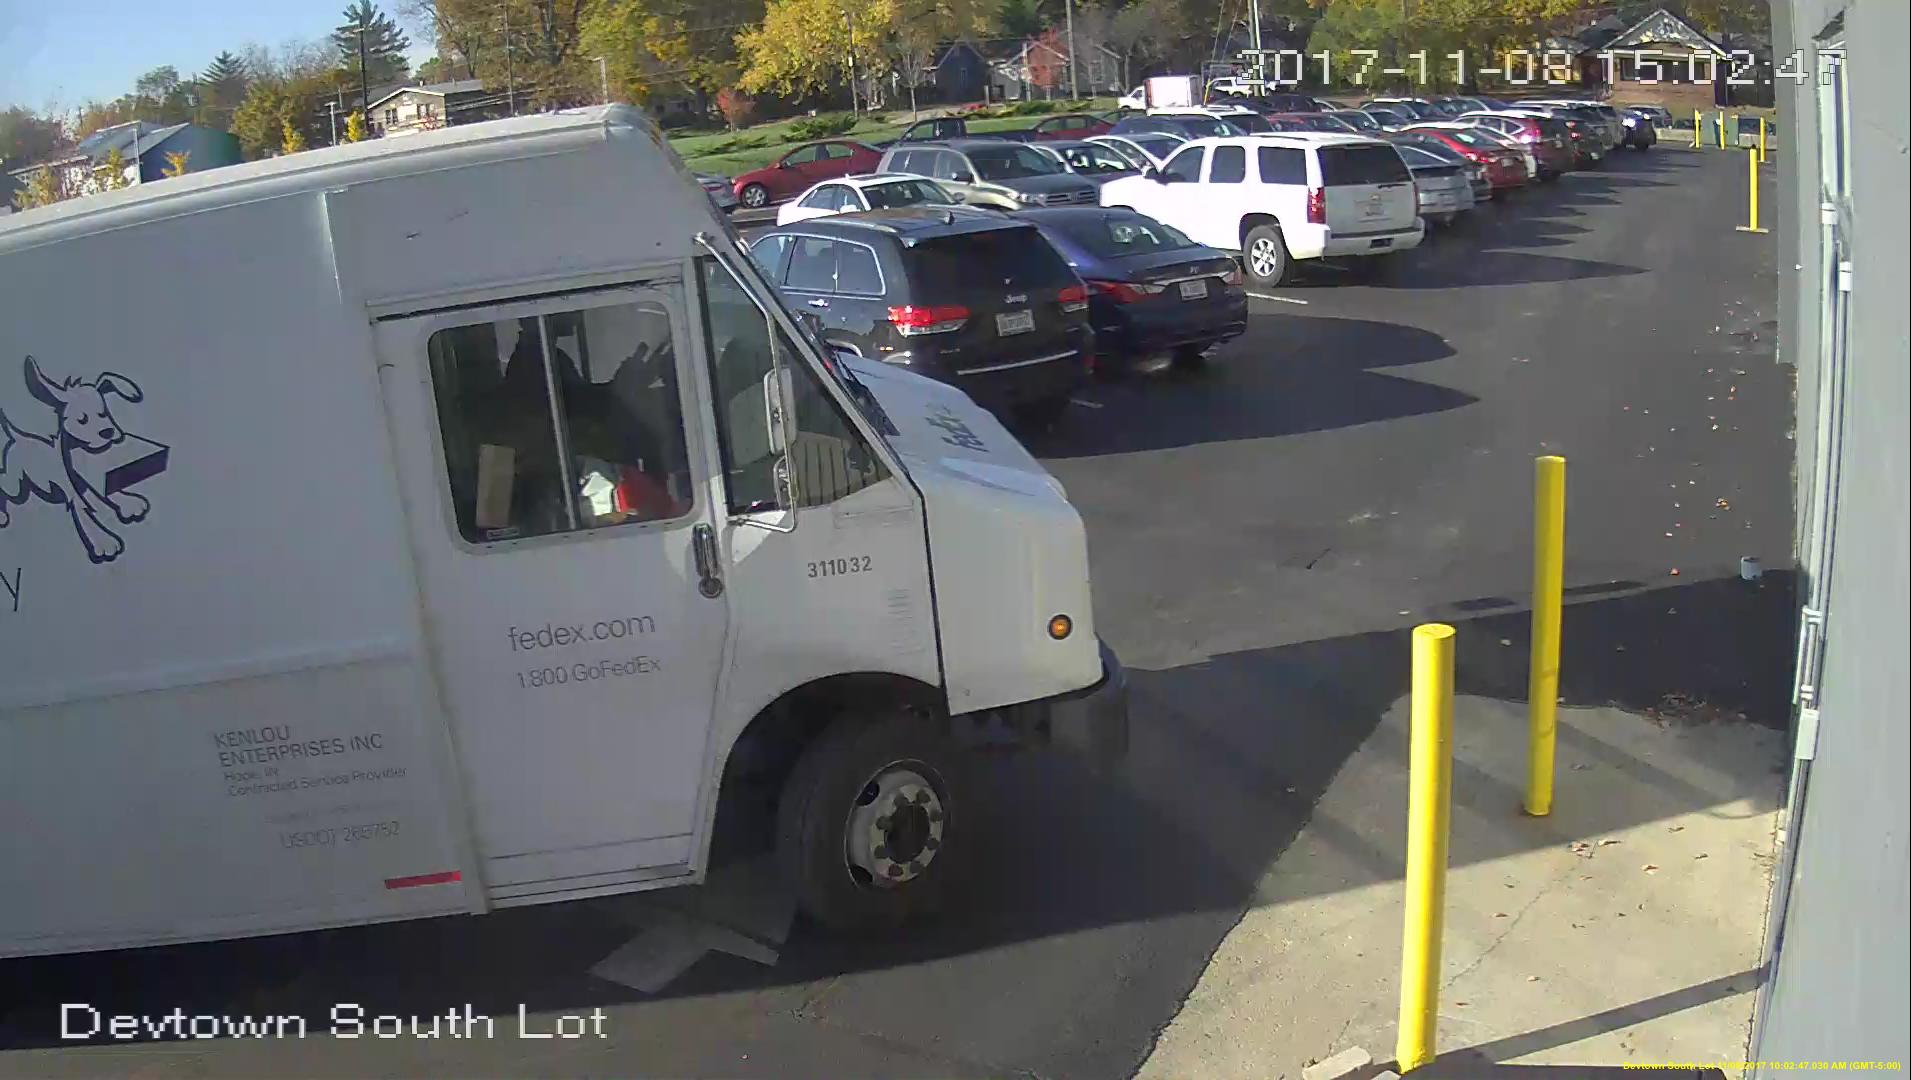fedex_truck: (1, 94, 1123, 980)
